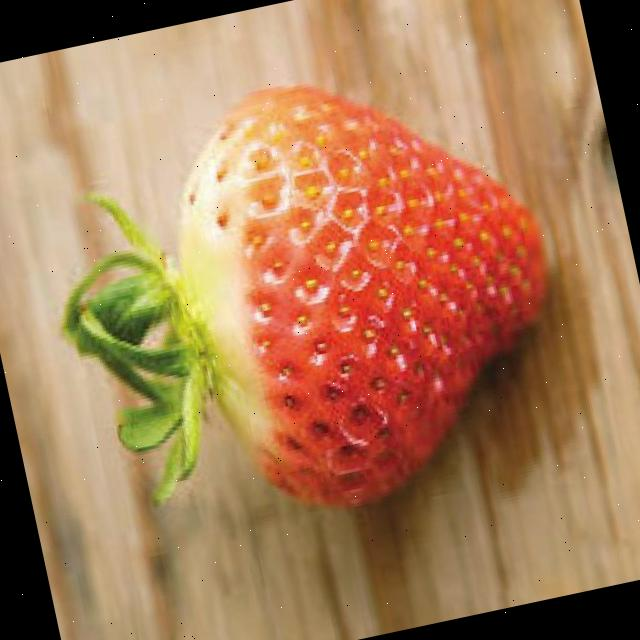strawberry: (141, 38, 590, 538)
